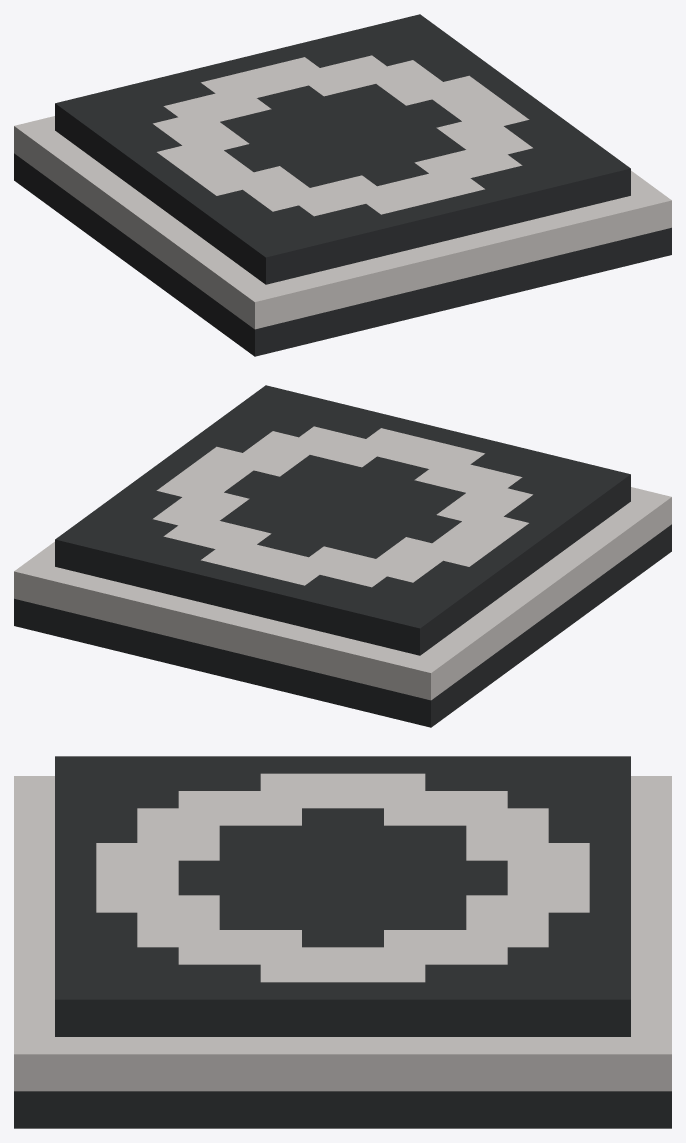
The model's file is o-v3-black-white.gltf.
3 renders of one model, top to bottom at view 1: azimuth 30°, elevation 25°; view 2: azimuth 150°, elevation 25°; view 3: azimuth 270°, elevation 25°, orthographic. The views are drawn at different scales.
Parts seen in each view (by area): view 1: Untitled; view 2: Untitled; view 3: Untitled.
Part boxes in pixels (x1,y1,x2,y2): Untitled: (14,14,671,356); Untitled: (14,385,671,727); Untitled: (14,756,671,1128).
Size of the model in its own units: 1.6 by 0.3 by 1.6.
Materials: 1 (1 with a texture image).
